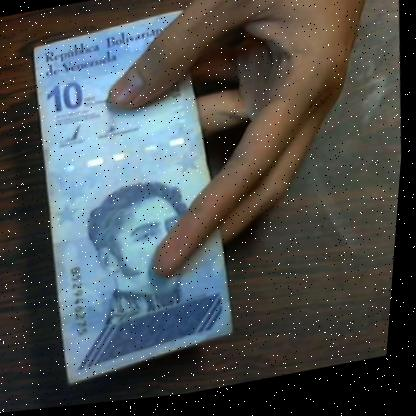ten-front-vef: (15, 5, 260, 398)
